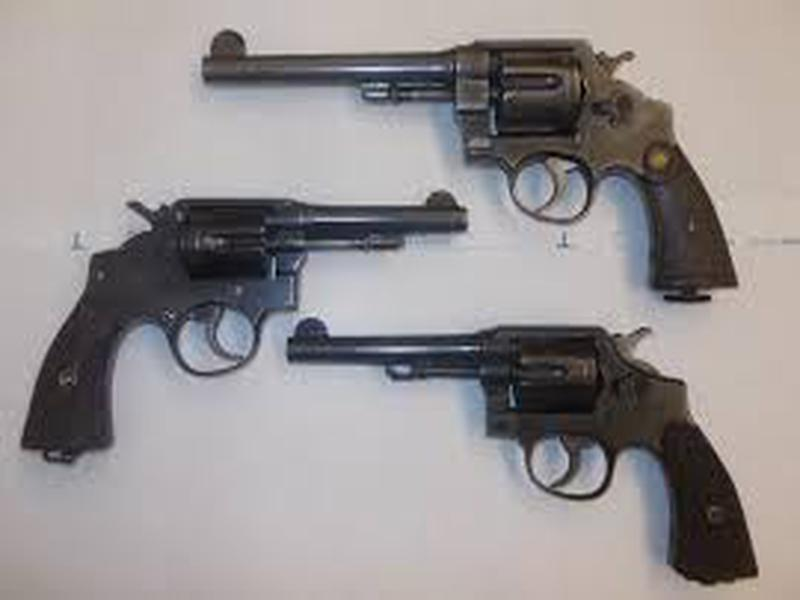gun: (196, 20, 770, 302), (274, 302, 773, 589), (17, 177, 472, 470)
